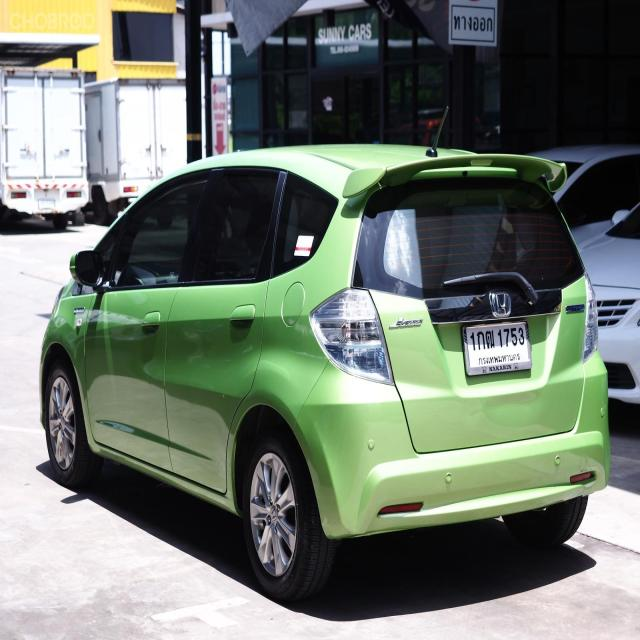license_plate: (458, 314, 536, 380)
